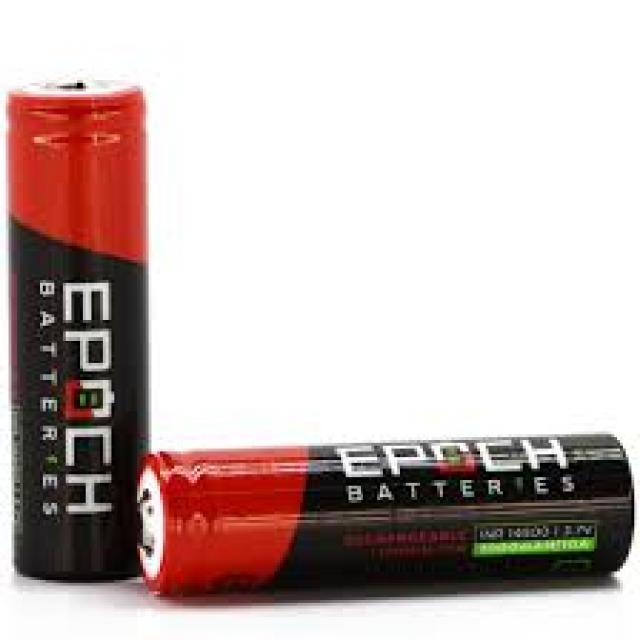non-organic waste: (142, 433, 633, 605), (12, 79, 149, 585)
